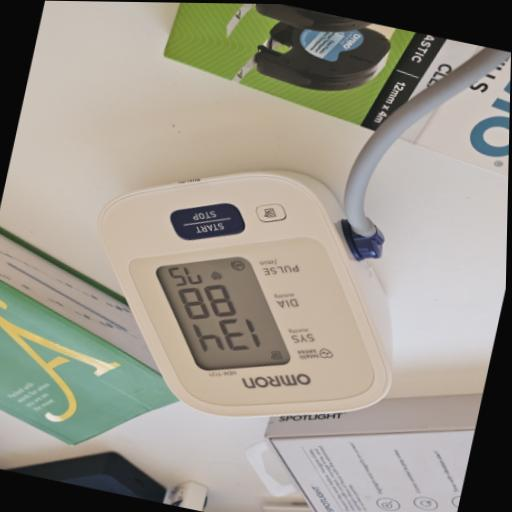blood pressure monitor: (58, 133, 435, 451)
